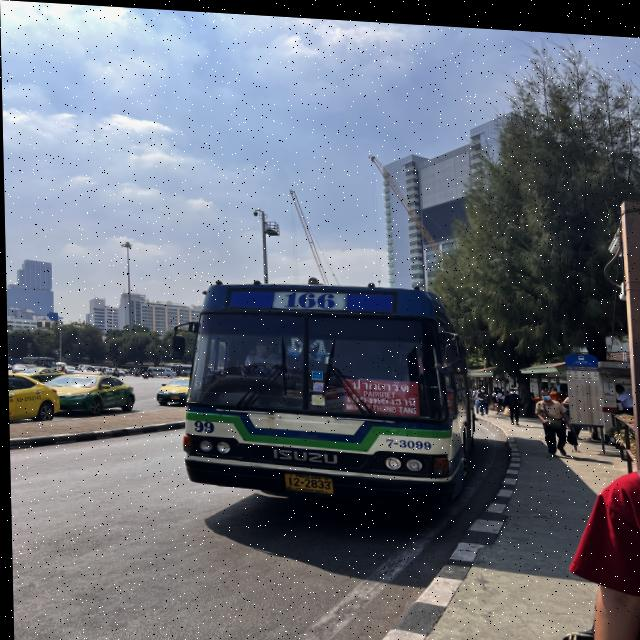BMTA-bus: (177, 273, 475, 508)
Bus-Line-Number: (274, 285, 348, 307)
Destination-Sign-Extra-Bus: (340, 372, 420, 412)
